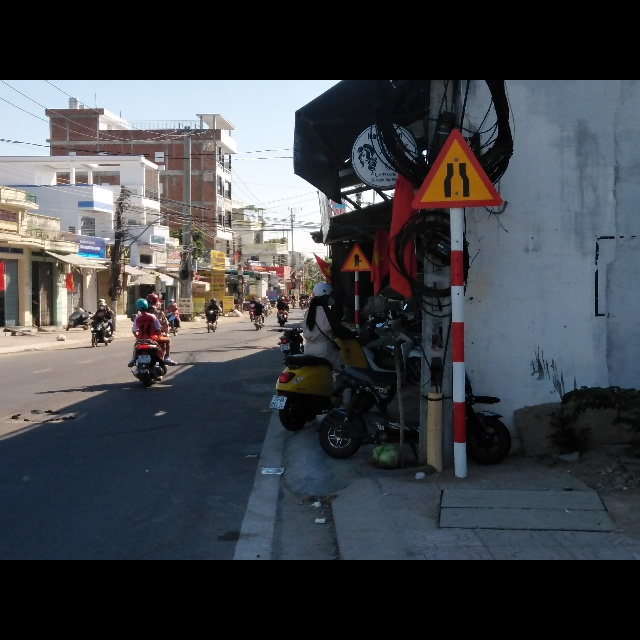Giao nhau với đường không ưu tiên: (342, 243, 376, 271)
Đường bị hẹp cả hai bên: (413, 127, 503, 209)
